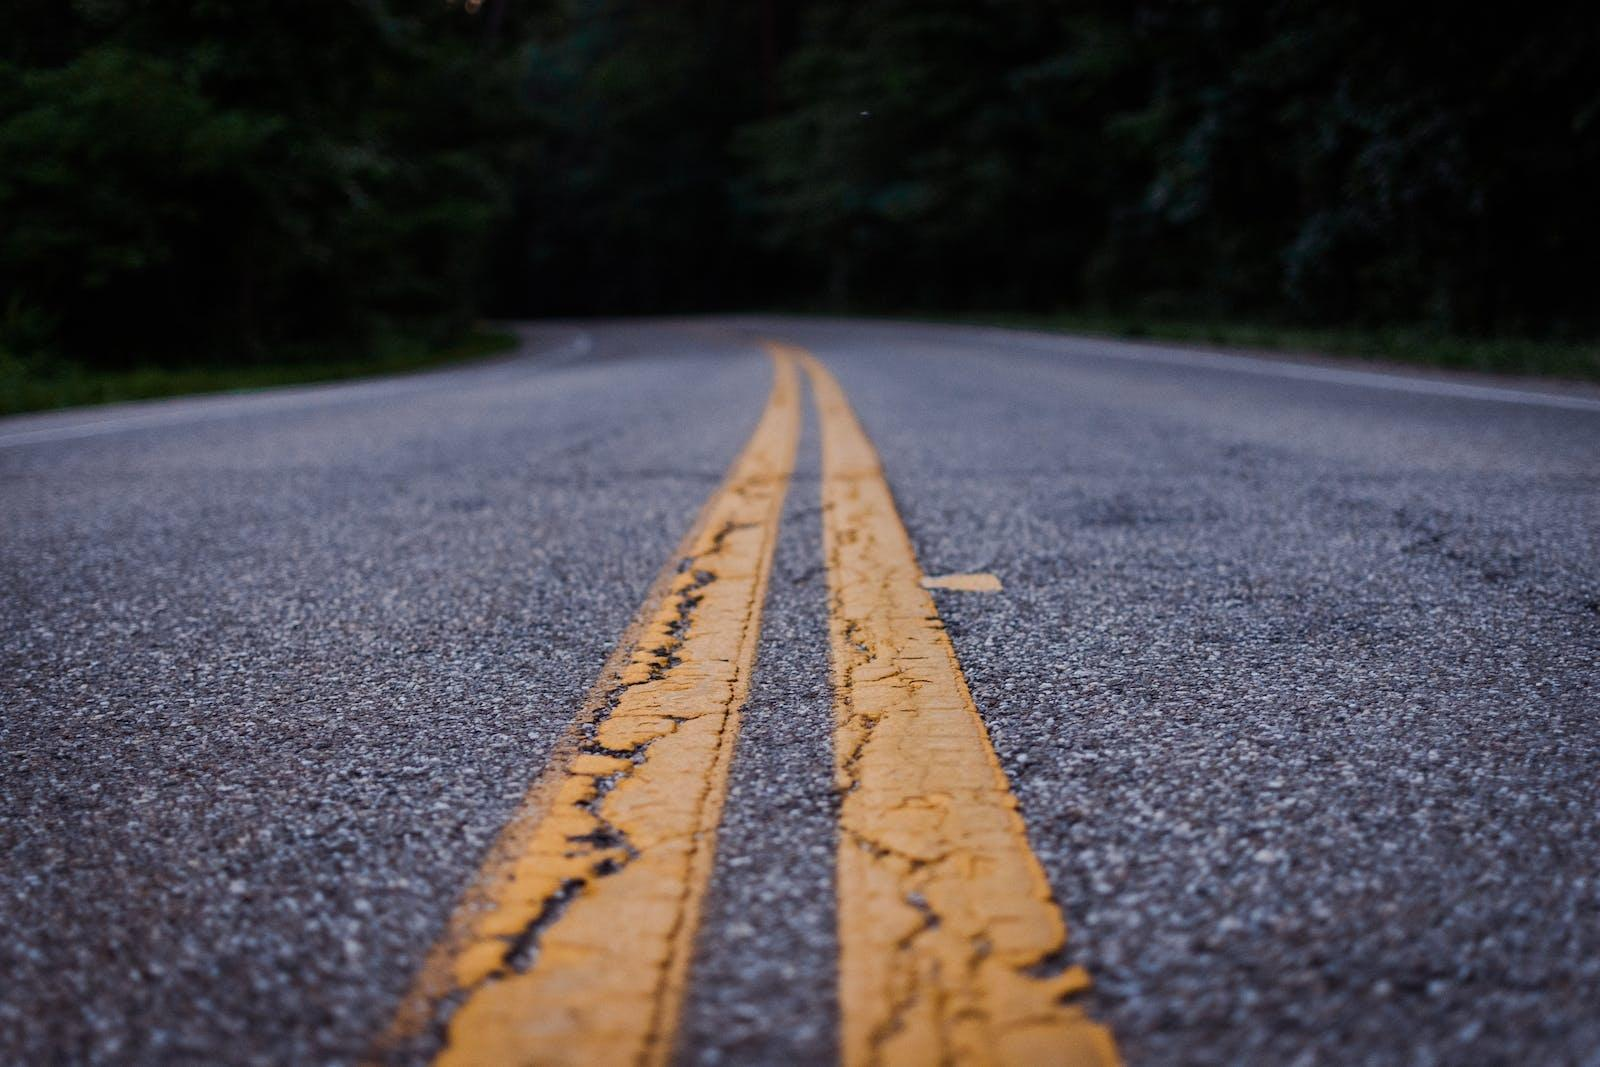road: (0, 319, 1599, 1063)
